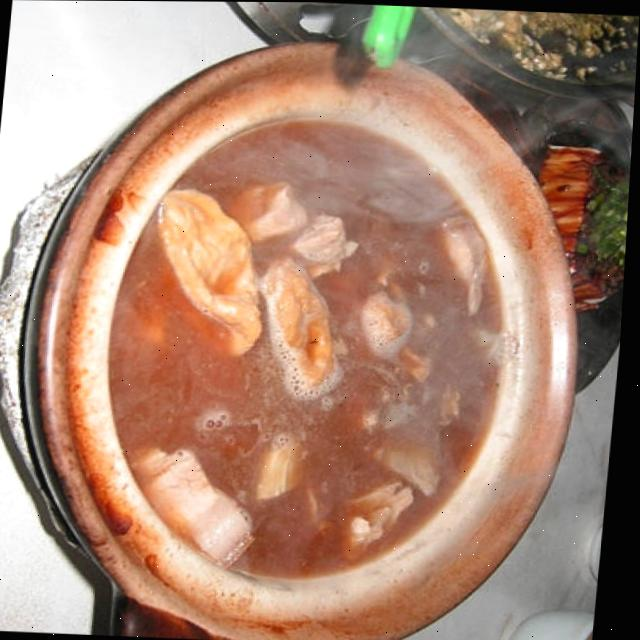汤锅炖物: (0, 36, 627, 640)
